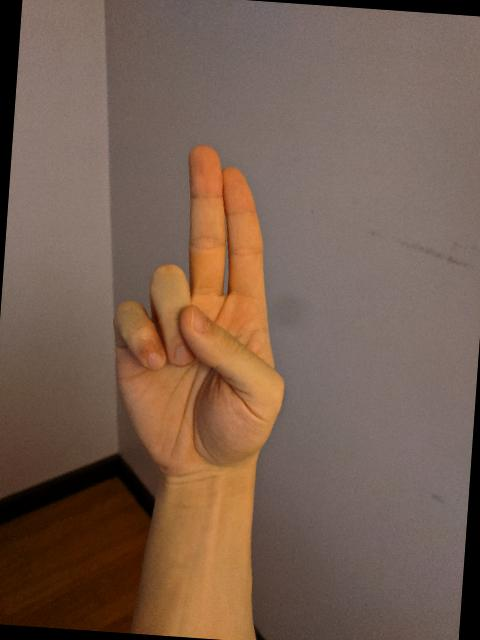U: (100, 136, 305, 486)
